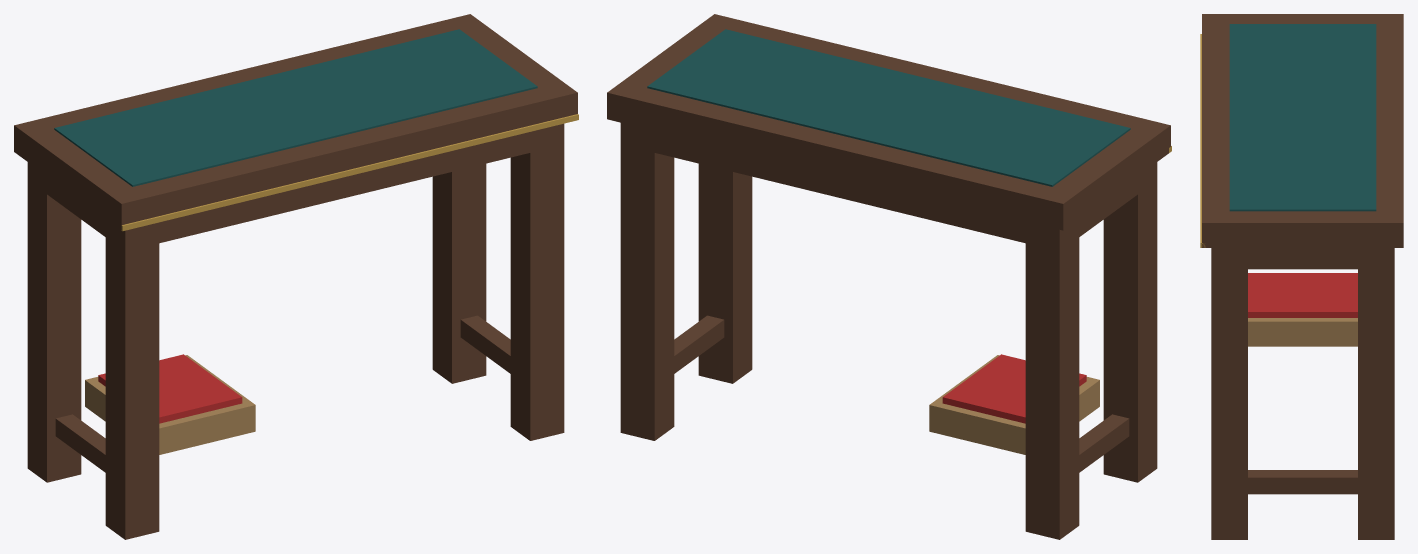
The model's file is sideTable.glb.
The picture shows the model from 3 angles, left to right: view 1: azimuth 30°, elevation 25°; view 2: azimuth 150°, elevation 25°; view 3: azimuth 270°, elevation 25°; orthographic projection. The views are drawn at different scales.
Visible parts, largest first — view 1: sideTable(Clone); view 2: sideTable(Clone); view 3: sideTable(Clone).
Part boxes in pixels (x1,y1,x2,y2): sideTable(Clone): (14, 14, 578, 539); sideTable(Clone): (607, 14, 1171, 539); sideTable(Clone): (1200, 14, 1403, 539).
Bounding box in the file's own units: 0.5345 × 0.3844 × 0.22.
